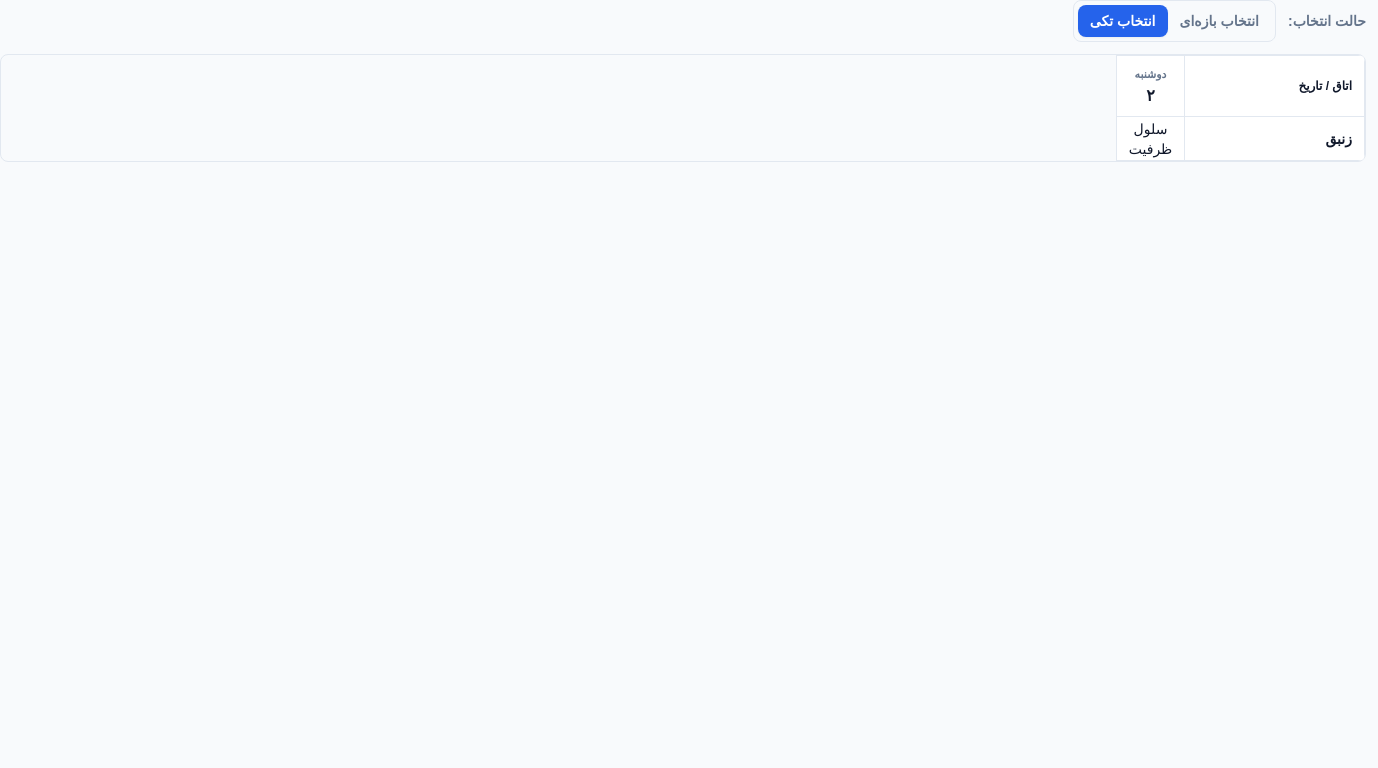
it: multi-inventory availability and pricing grids › retains TotalInventory validation without deriving a cap from physical rooms
Click the button "سلول ظرفیت".
click(1150, 138)  # box [1117,117,1184,160]
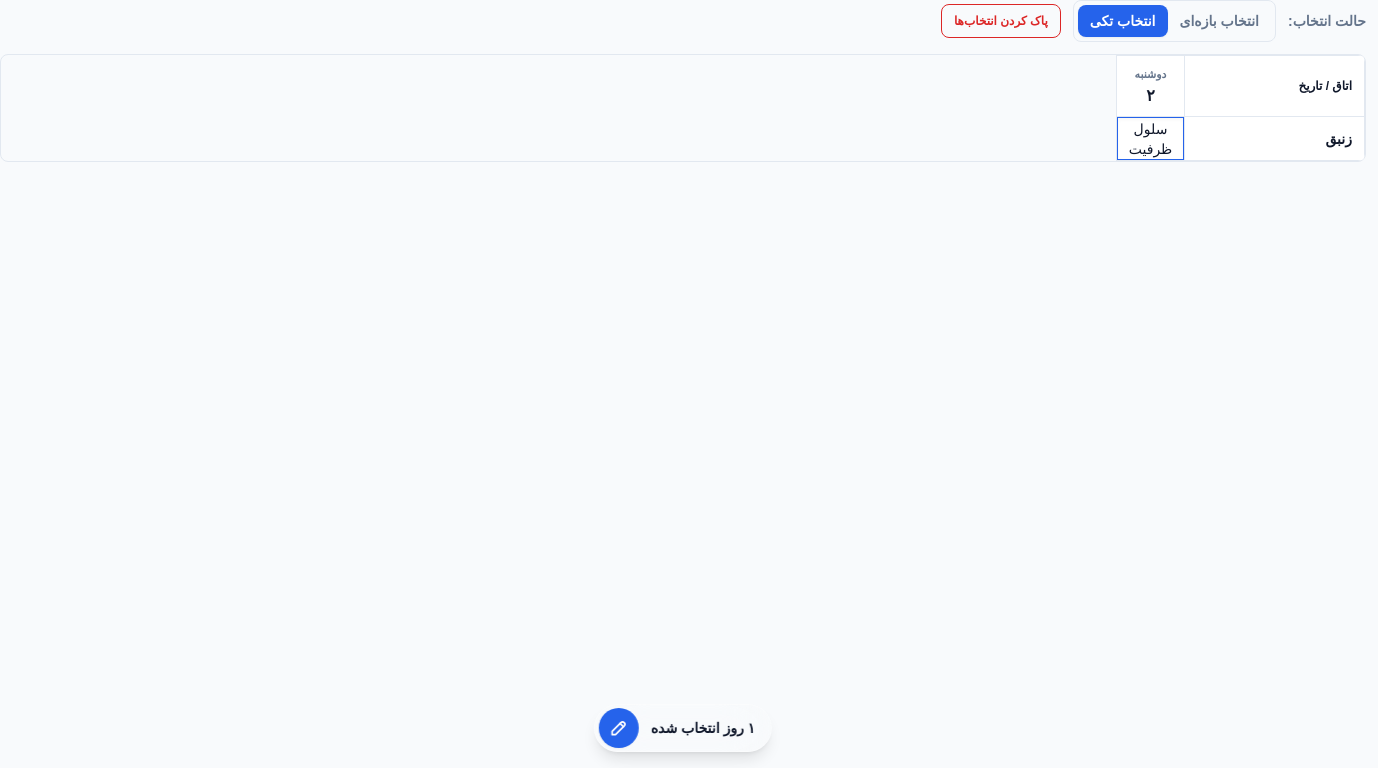
Click the button named "بازکردن پنل ویرایش".
click(619, 728)  # box [599,708,639,748]
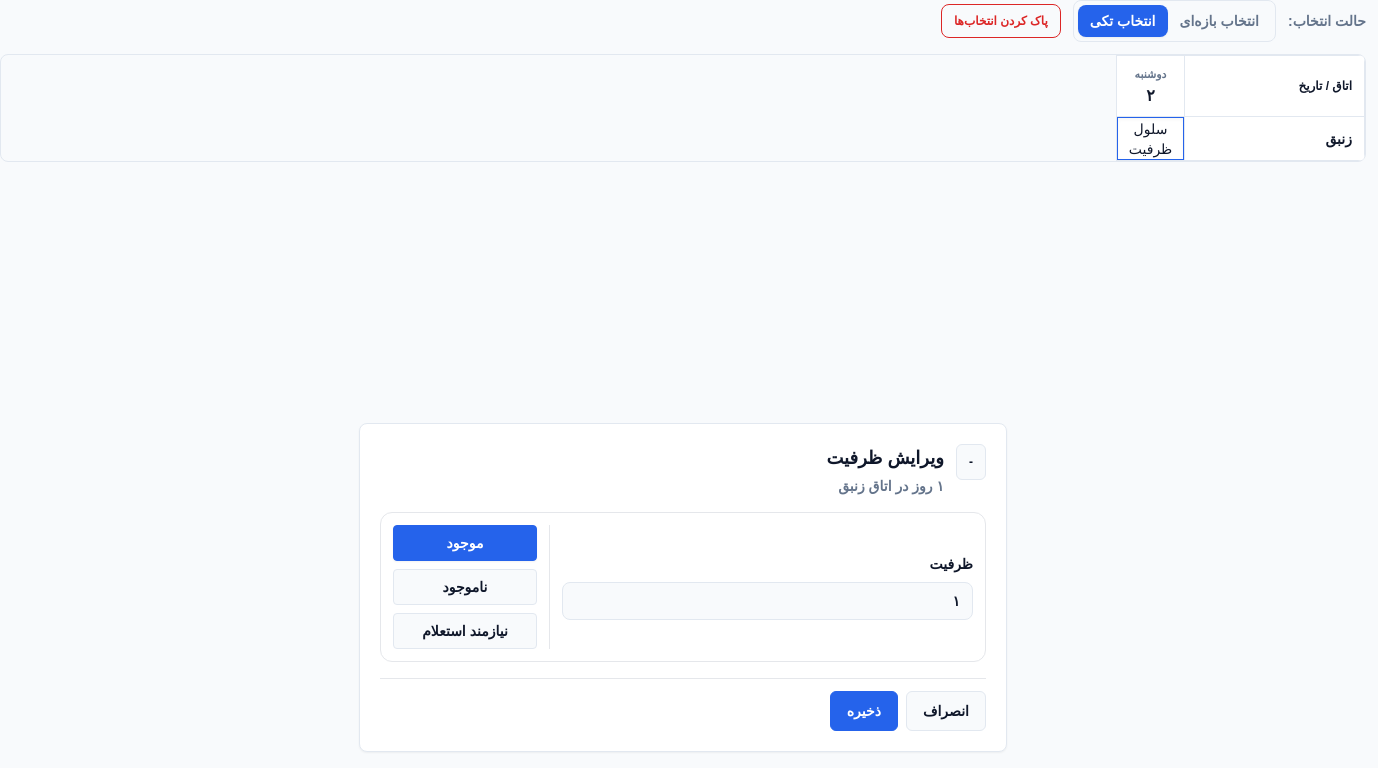
Replace the text in the field labelled "ظرفیت" with "11" at (768, 601), box [562,582,973,620]
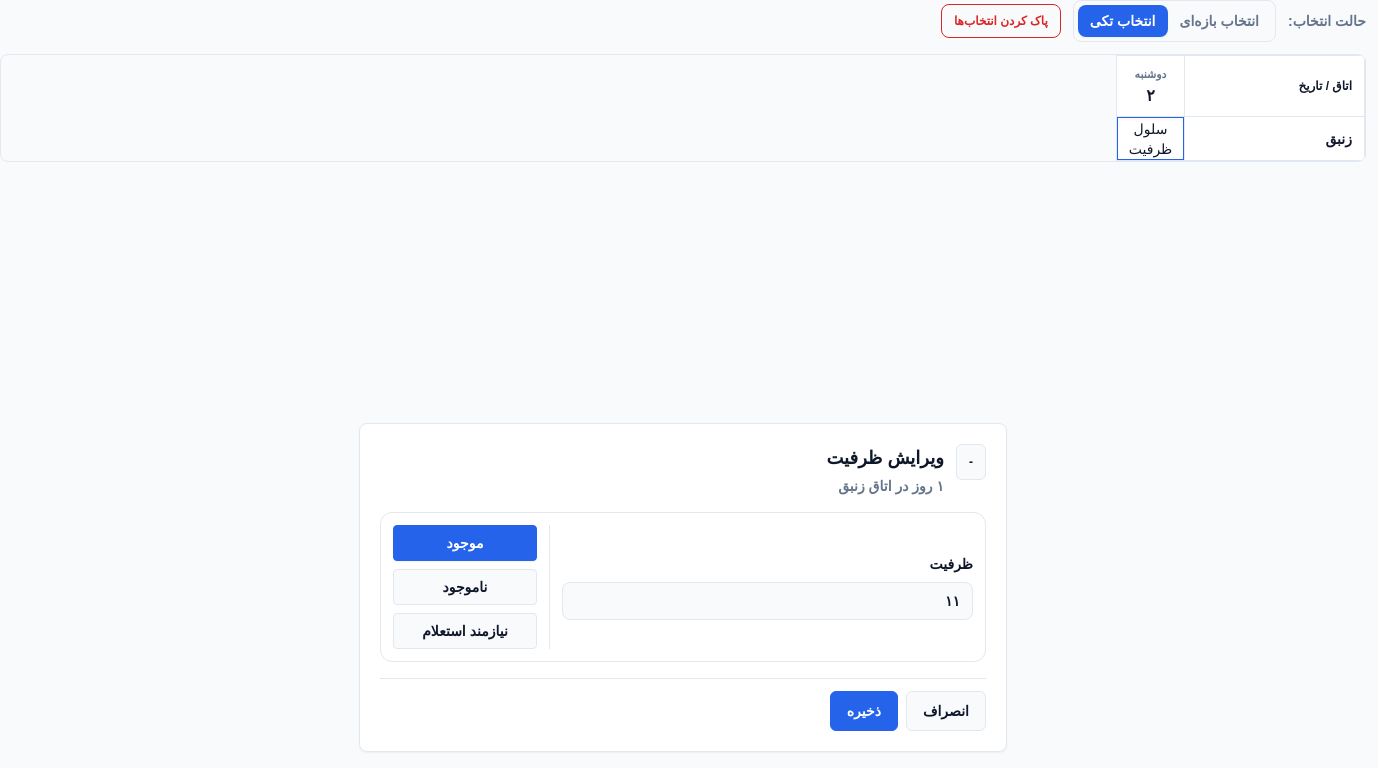
Click the button "ذخیره".
click(864, 711)  # box [830,691,898,731]
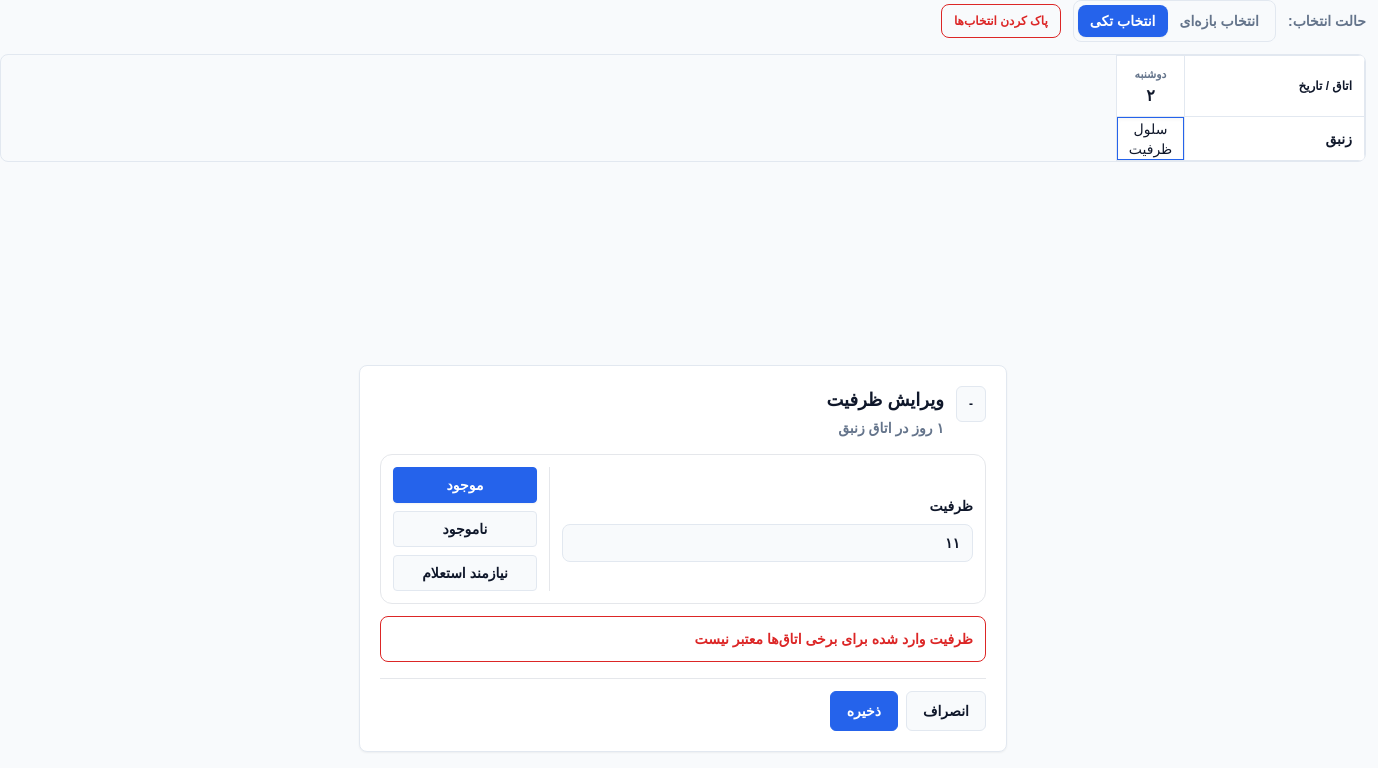
Expected: the text "ظرفیت وارد شده برای برخی اتاق‌ها معتبر نیست" is shown, [380,616,986,662]
